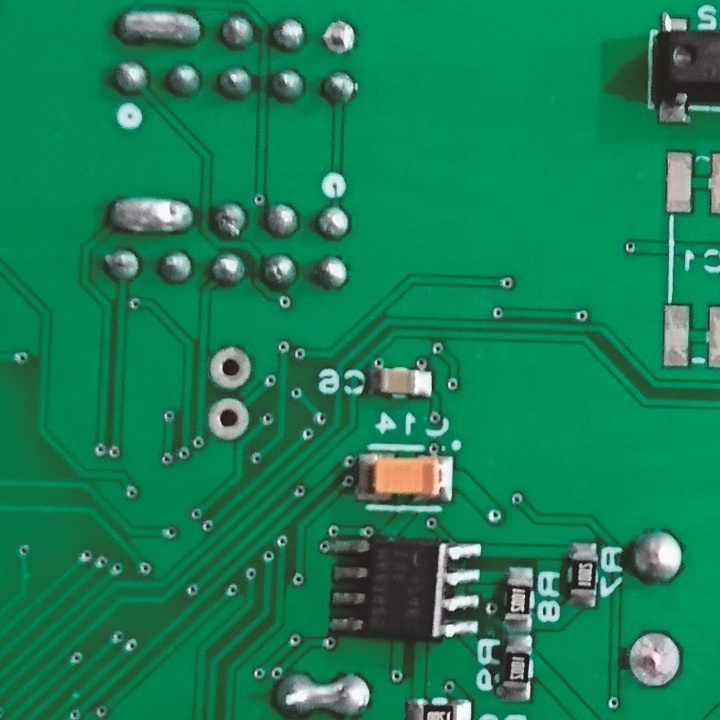F: (623, 626, 685, 692), (205, 395, 256, 444), (207, 346, 256, 393), (320, 18, 360, 57)
P: (266, 672, 374, 716), (104, 193, 196, 240), (111, 6, 206, 48)
